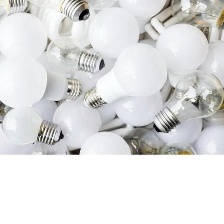light_bulb: (79, 40, 172, 112), (0, 48, 84, 114), (150, 19, 212, 102), (149, 66, 223, 135), (81, 3, 145, 66), (53, 96, 116, 153), (43, 33, 108, 77), (0, 105, 68, 147), (117, 124, 166, 164), (16, 0, 94, 25), (165, 0, 223, 30)
